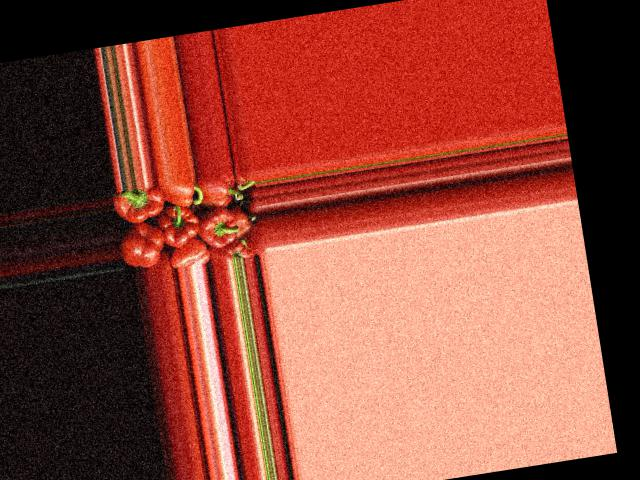bell_pepper: (166, 240, 209, 268)
